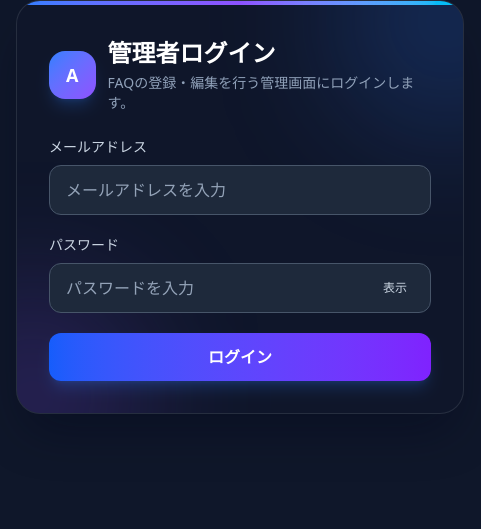
Test case: LoginPage › ログイン失敗時はエラーメッセージを表示する
Type "admin@example.com" into the field with placeholder "メールアドレスを入力" at (240,190), box [49, 165, 431, 215]
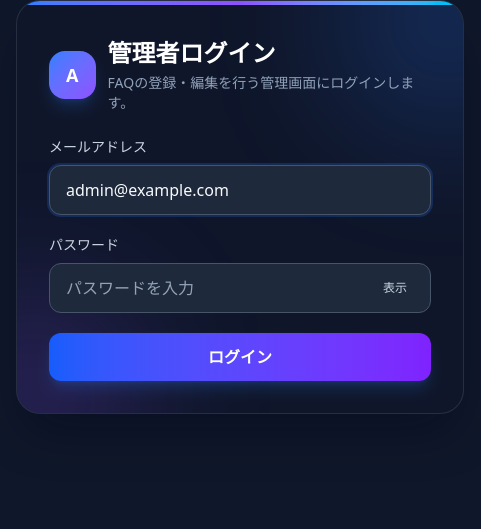
Type "wrong-password" into the password field with placeholder "パスワードを入力" at (240,288), box [49, 263, 431, 313]
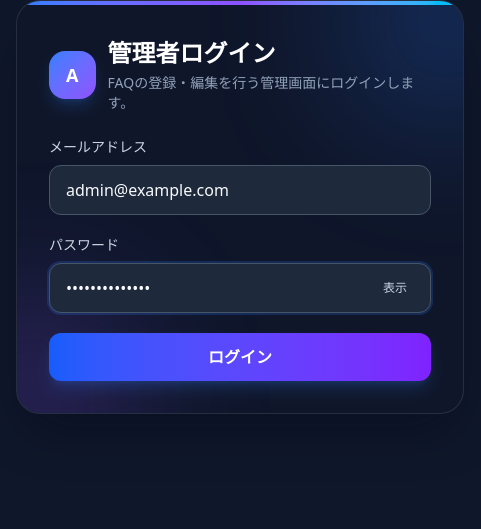
Click the button "ログイン" at (240,357), box [49, 333, 431, 381]
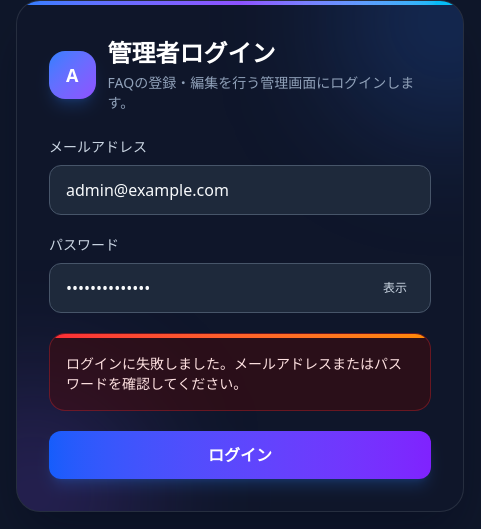
Expected: the text "ログインに失敗しました。メールアドレスまたはパスワードを確認してください。" is shown, [66, 354, 402, 393]
